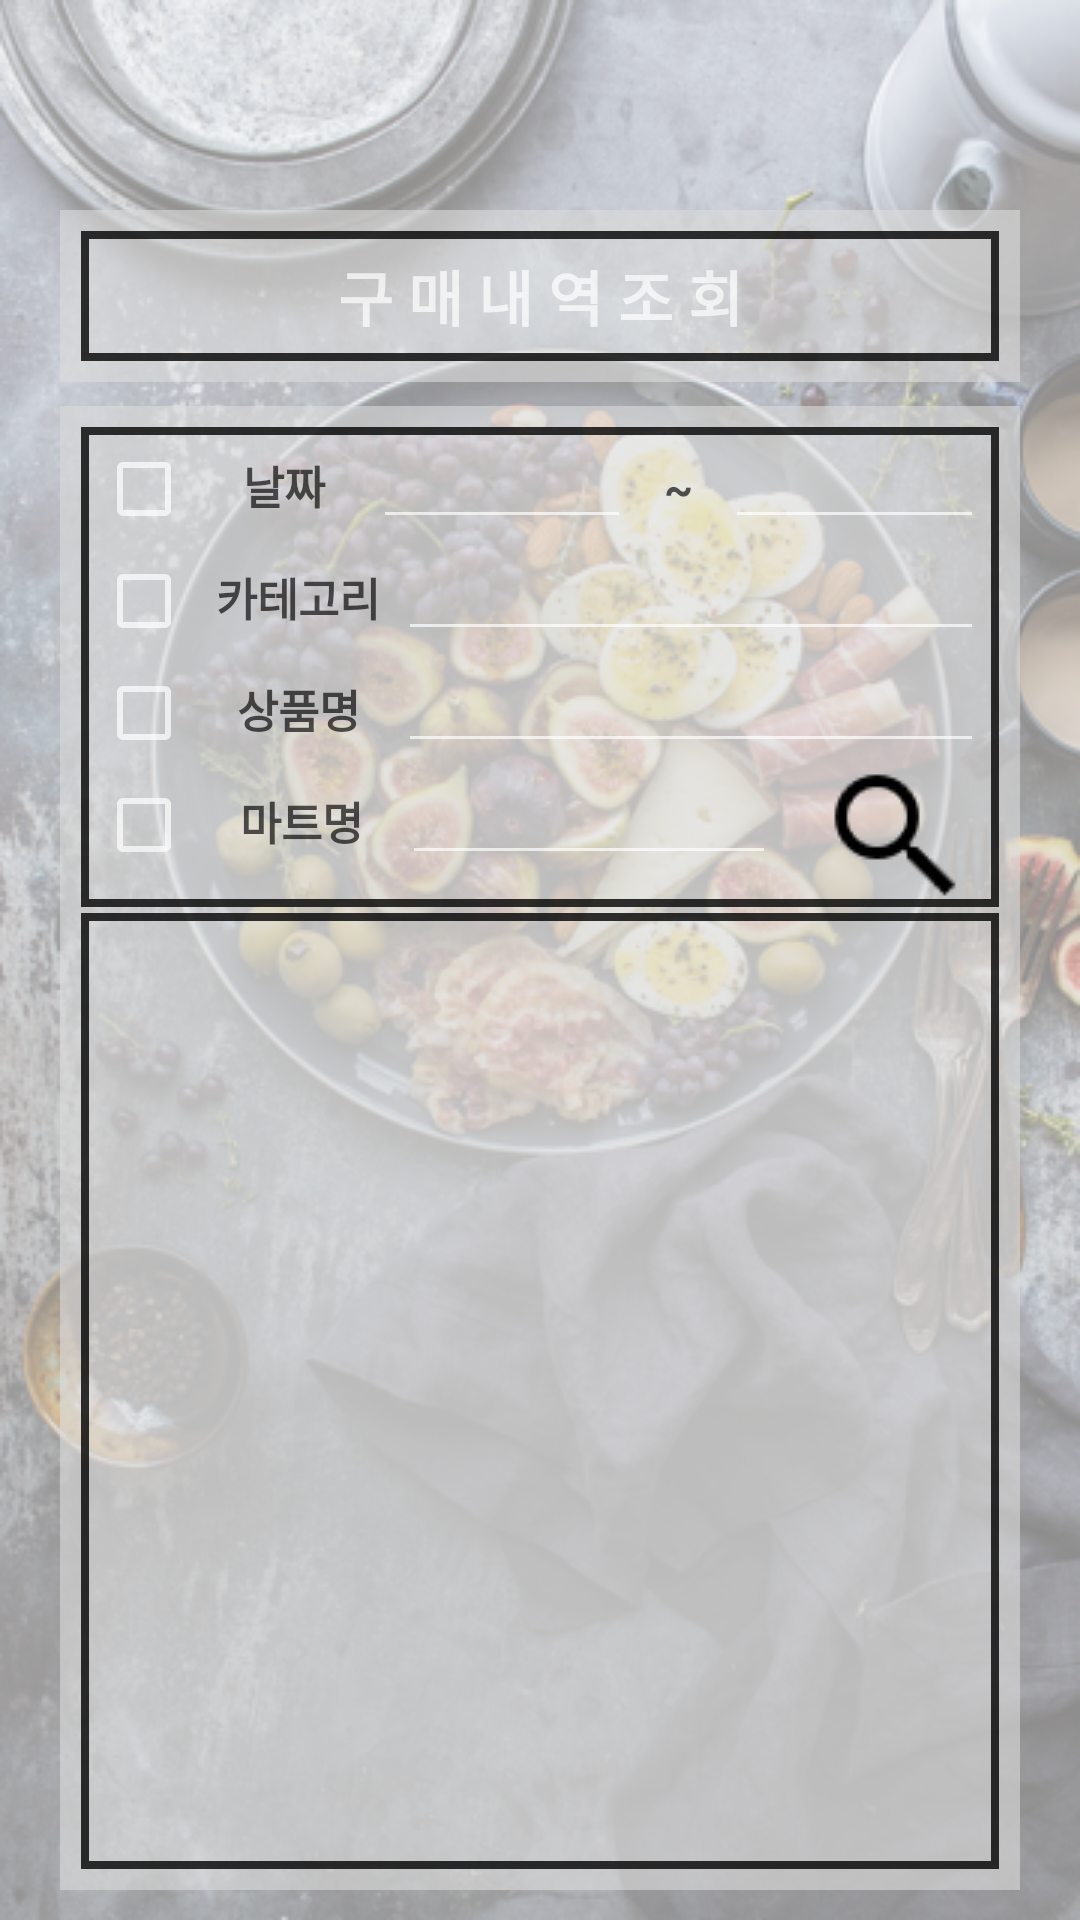

Screen size 1080w x 1920h. Icon name, then its center in pixels as (x=x, y=y):
price search activity: (x=880, y=835)
